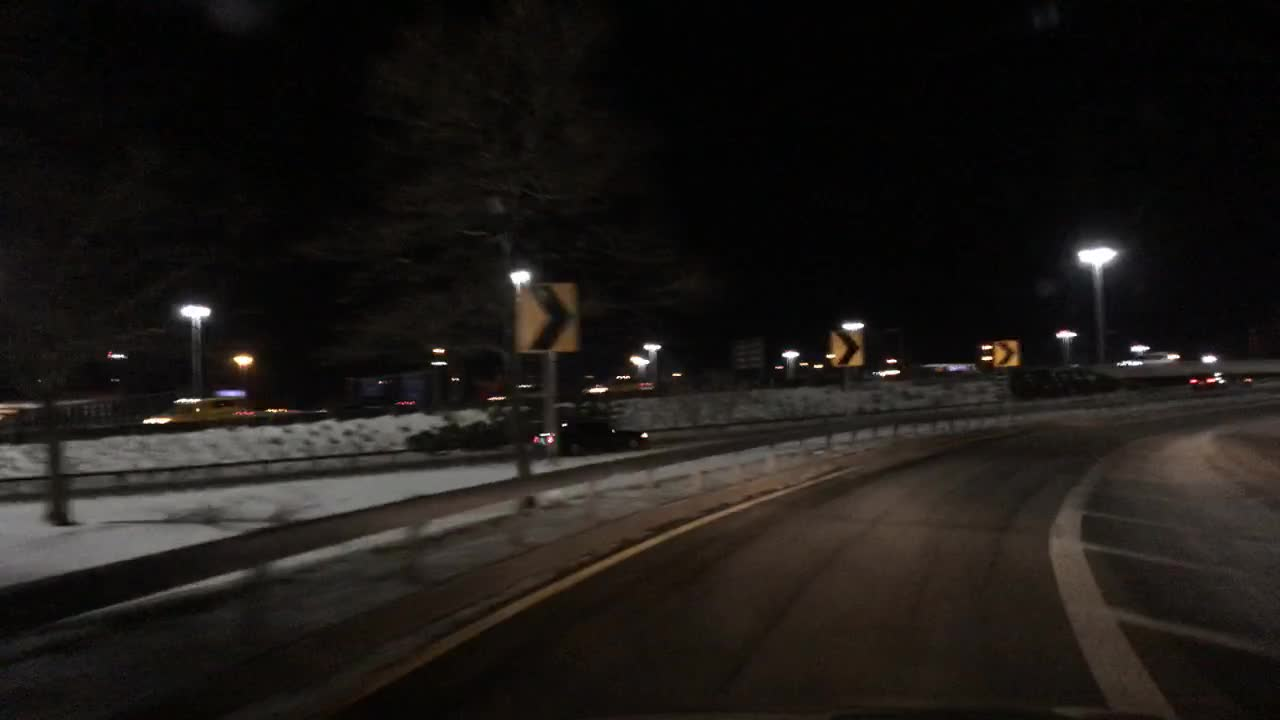car: (531, 415, 653, 454), (132, 395, 247, 423), (581, 374, 658, 394), (1184, 369, 1251, 388)
traffic sign: (511, 282, 581, 355), (829, 329, 864, 374), (992, 338, 1018, 369)
